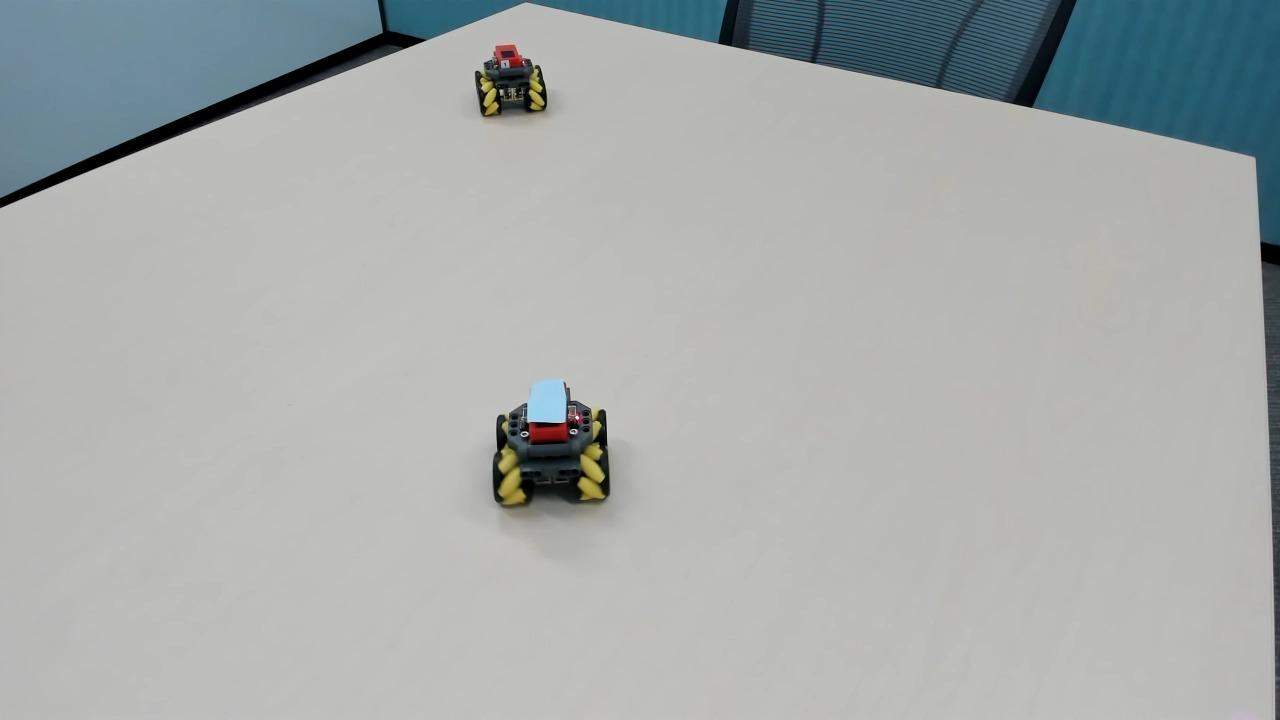B-Robot: (481, 370, 623, 521)
R-Robot: (466, 34, 559, 126)
